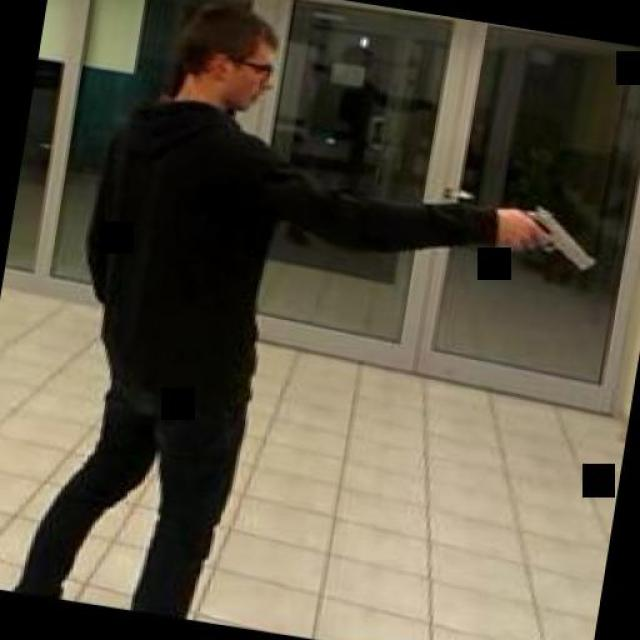gun: (502, 198, 602, 272)
